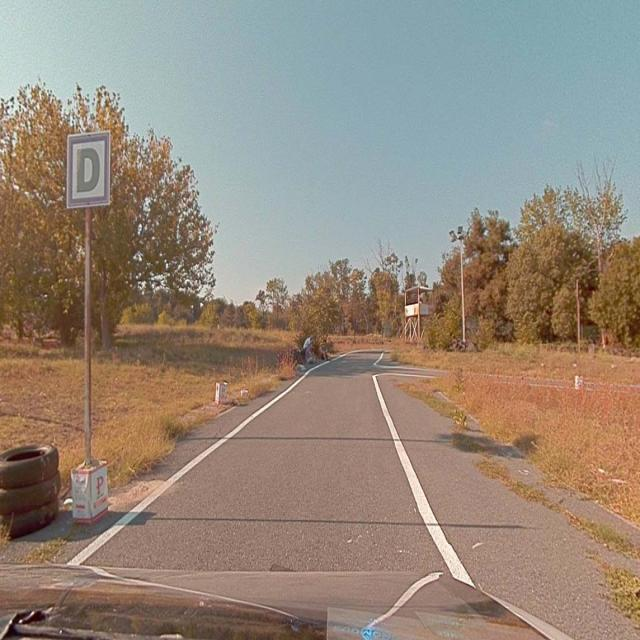durak: (66, 132, 108, 205)
